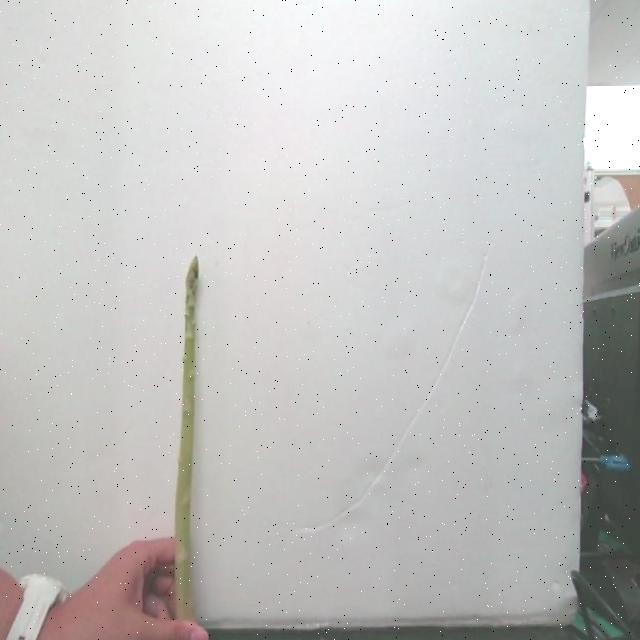aspargus: (174, 257, 203, 624)
